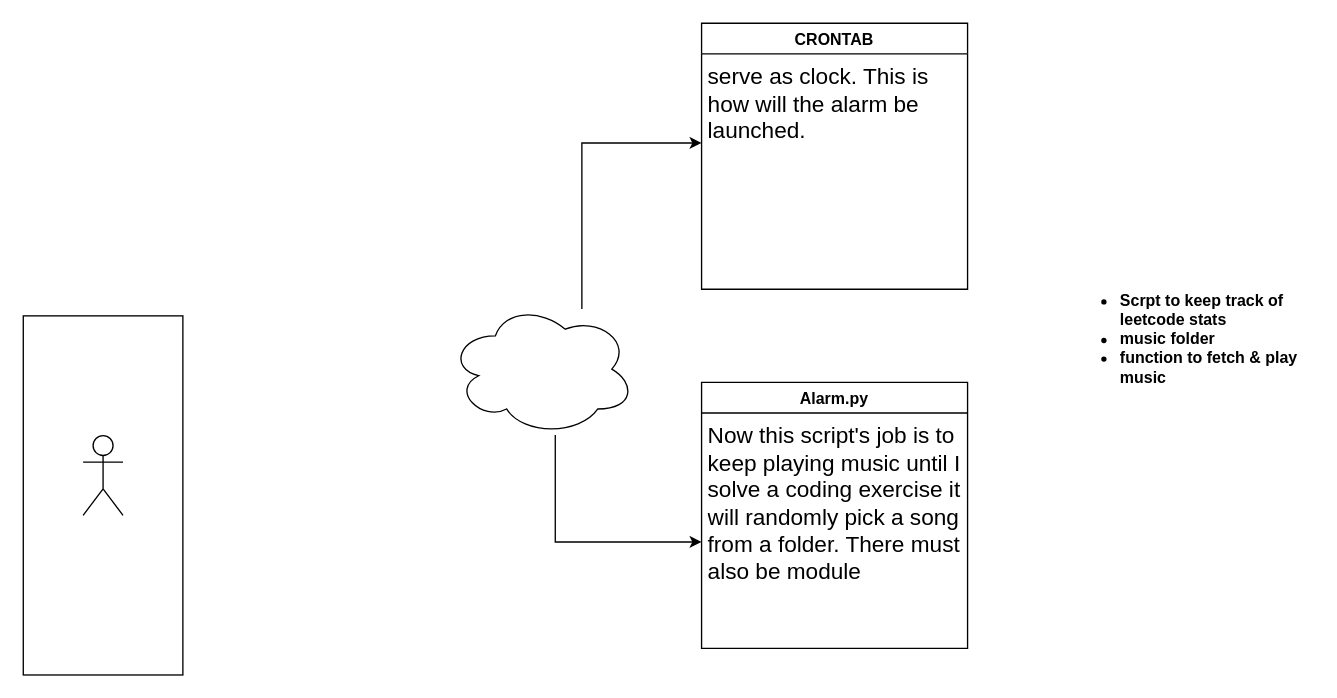
Some shapes in this 1337 by 698 pixel diagram are drawn without their labels. The shapes that lost their labels are listed below. From the top down, each one's centre as x and y in pixels, then its label:
At pixel 541 368: "Alarm".
At pixel 102 474: "Actor".
